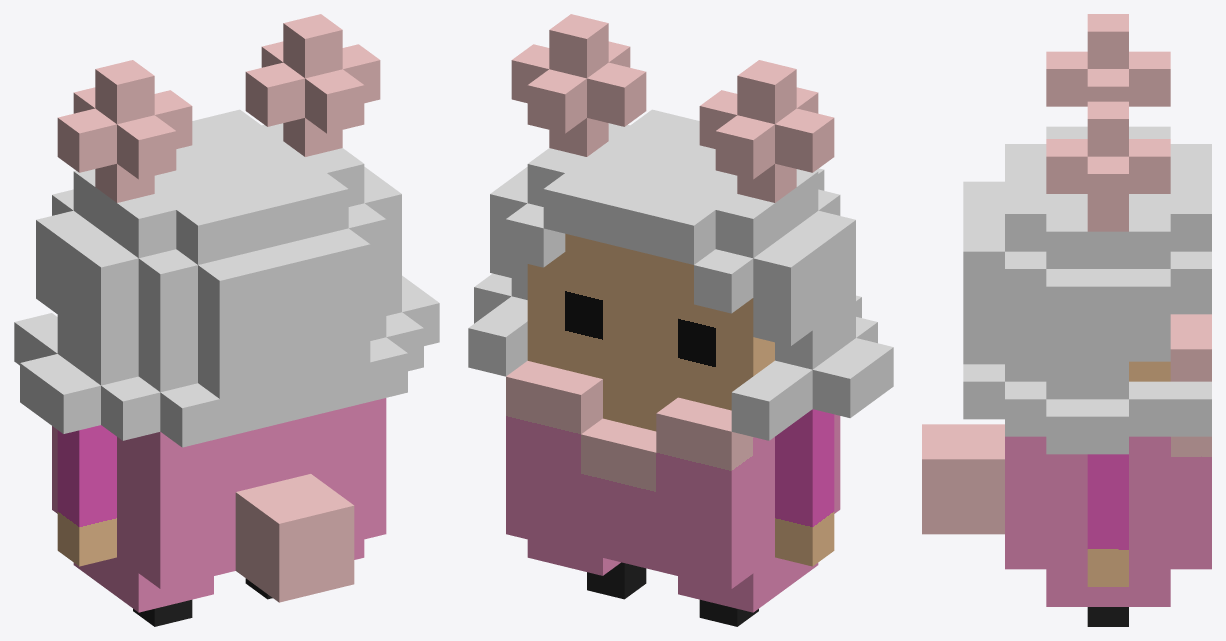
The model's file is chr_costume3.dae.
The picture shows the model from 3 angles, left to right: view 1: azimuth 30°, elevation 25°; view 2: azimuth 150°, elevation 25°; view 3: azimuth 270°, elevation 25°; orthographic projection. The views are drawn at different scales.
Parts seen in each view (by area): view 1: chr_costume3; view 2: chr_costume3; view 3: chr_costume3.
Boxes of the visible parts, box(x1,y1,x2,y2) form: chr_costume3: box(14, 14, 439, 626); chr_costume3: box(468, 14, 893, 626); chr_costume3: box(922, 14, 1211, 626).
Size of the model in its own units: 1 by 0.7 by 1.4.
Materials: 1 (1 with a texture image).
